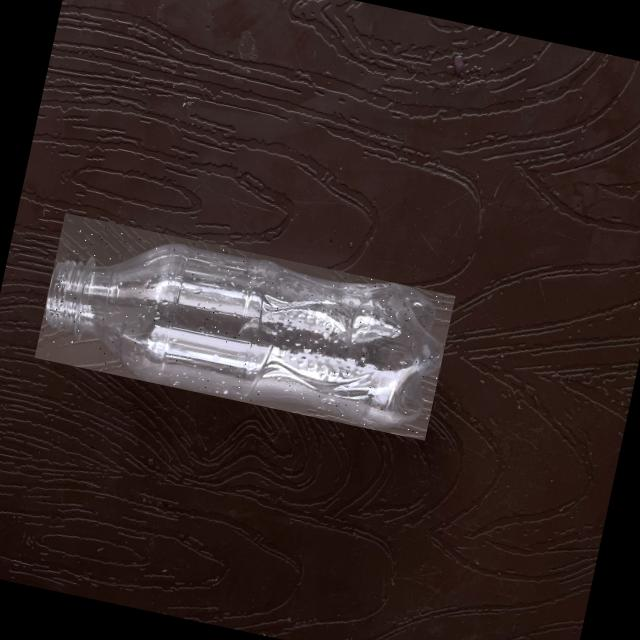Glass_Bottle: (46, 245, 442, 427)
PET_With_Liquid: (48, 239, 408, 420)
